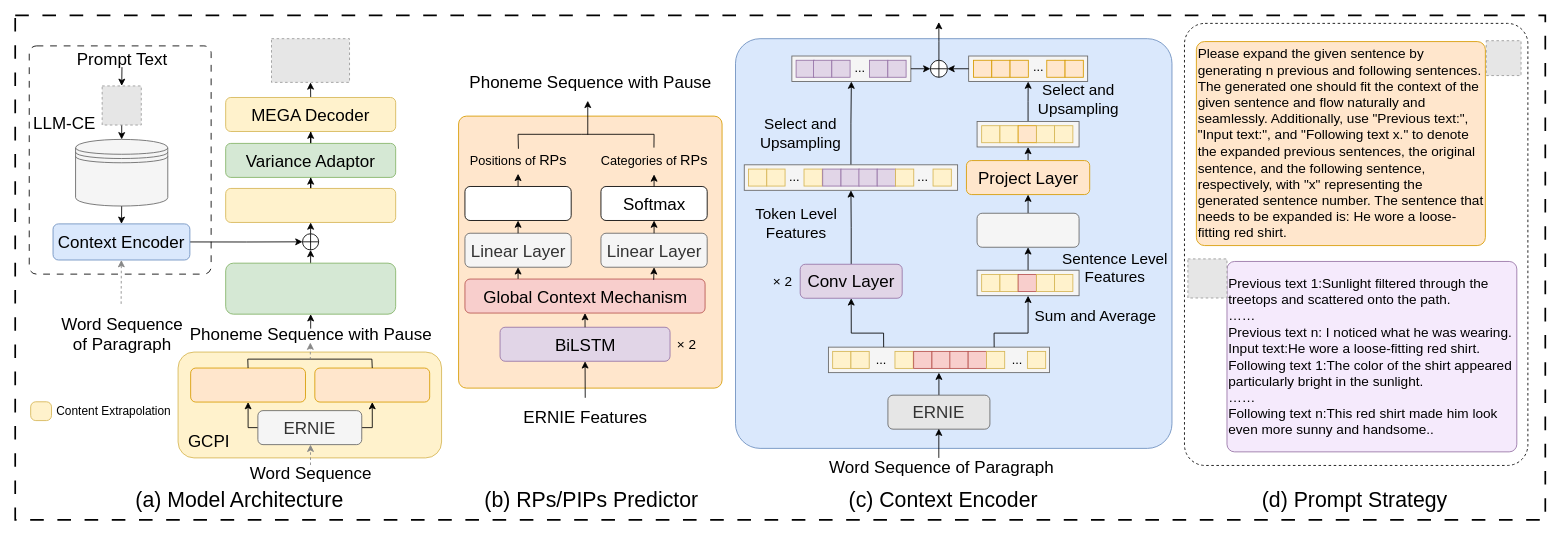
The diagram is 1561 pixels wide and 536 high, and some of its shapes have lost their labels. Grey dashed boxes stand in for pictures. Each missing label, with the box of its shape:
BiGRU: (976, 212, 1079, 247)
Generated Contexts: (75, 139, 168, 206)
MEGA Encoder: (225, 188, 396, 222)
Phoneme Embedding Layer: (225, 262, 396, 314)
PIPs Predictor: (314, 367, 430, 402)
RPs Predictor: (190, 367, 305, 402)
Sigmoid: (464, 186, 571, 220)
